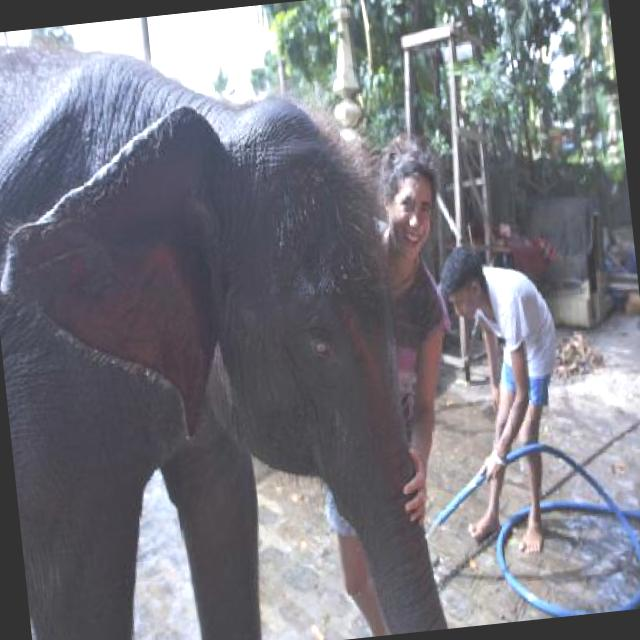Person: (286, 133, 481, 639), (436, 240, 574, 564)
